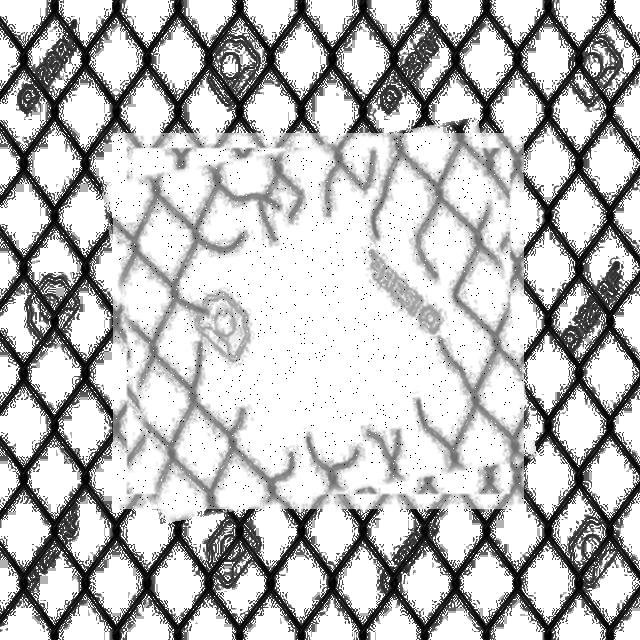anomaly-fence: (113, 133, 524, 509)
